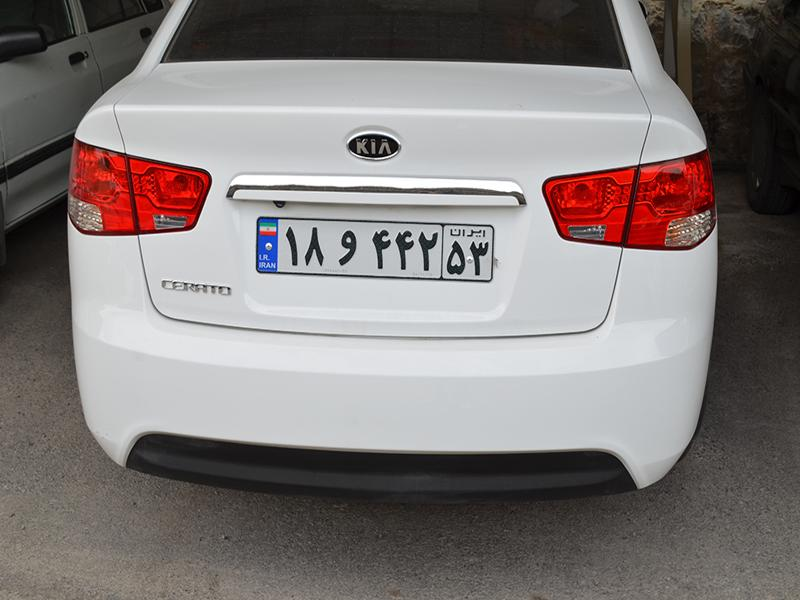Plate: (259, 213, 491, 291)
